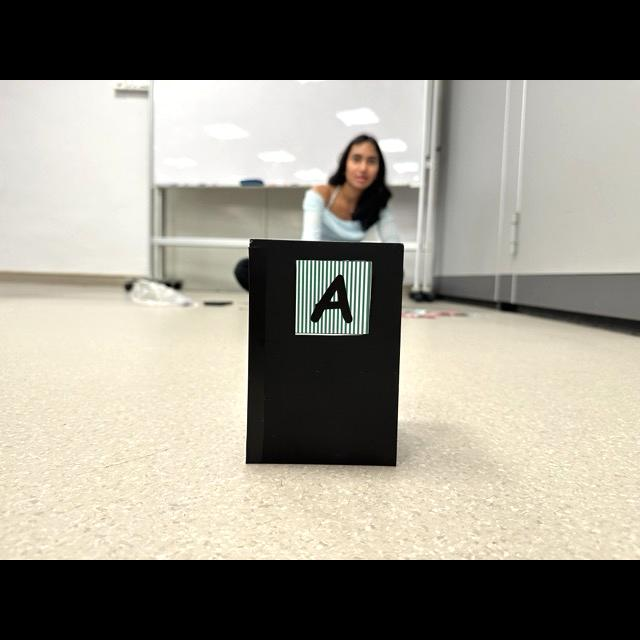A: (311, 275, 351, 322)
